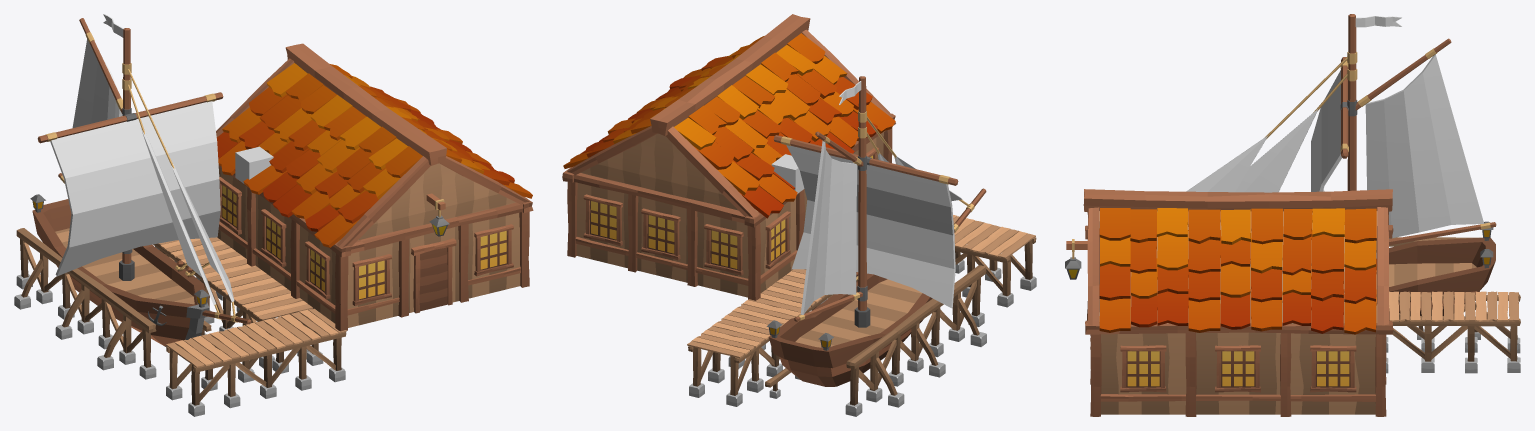
3 views of the same model, side by side, from view 1: azimuth 30°, elevation 25°; view 2: azimuth 150°, elevation 25°; view 3: azimuth 270°, elevation 25° (orthographic). The views are drawn at different scales.
Parts seen in each view (by area): view 1: pirate_house_3, ship, wooden_platform_2, Cube; view 2: pirate_house_3, ship, wooden_platform_2, Cube; view 3: pirate_house_3, ship, wooden_platform_2.
Part boxes in pixels (x1,y1,x2,y2): pirate_house_3: (216,43,533,331); ship: (30,14,251,346); wooden_platform_2: (14,228,346,416); Cube: (235,146,273,183); pirate_house_3: (562,14,895,300); ship: (766,76,986,386); wooden_platform_2: (687,215,1036,416); Cube: (771,154,804,193); pirate_house_3: (1065,189,1393,416); ship: (1186,14,1496,316); wooden_platform_2: (1386,237,1520,373).
Size of the model in its own units: 31.75 by 22.69 by 30.4.
2 materials, 1 textured.
